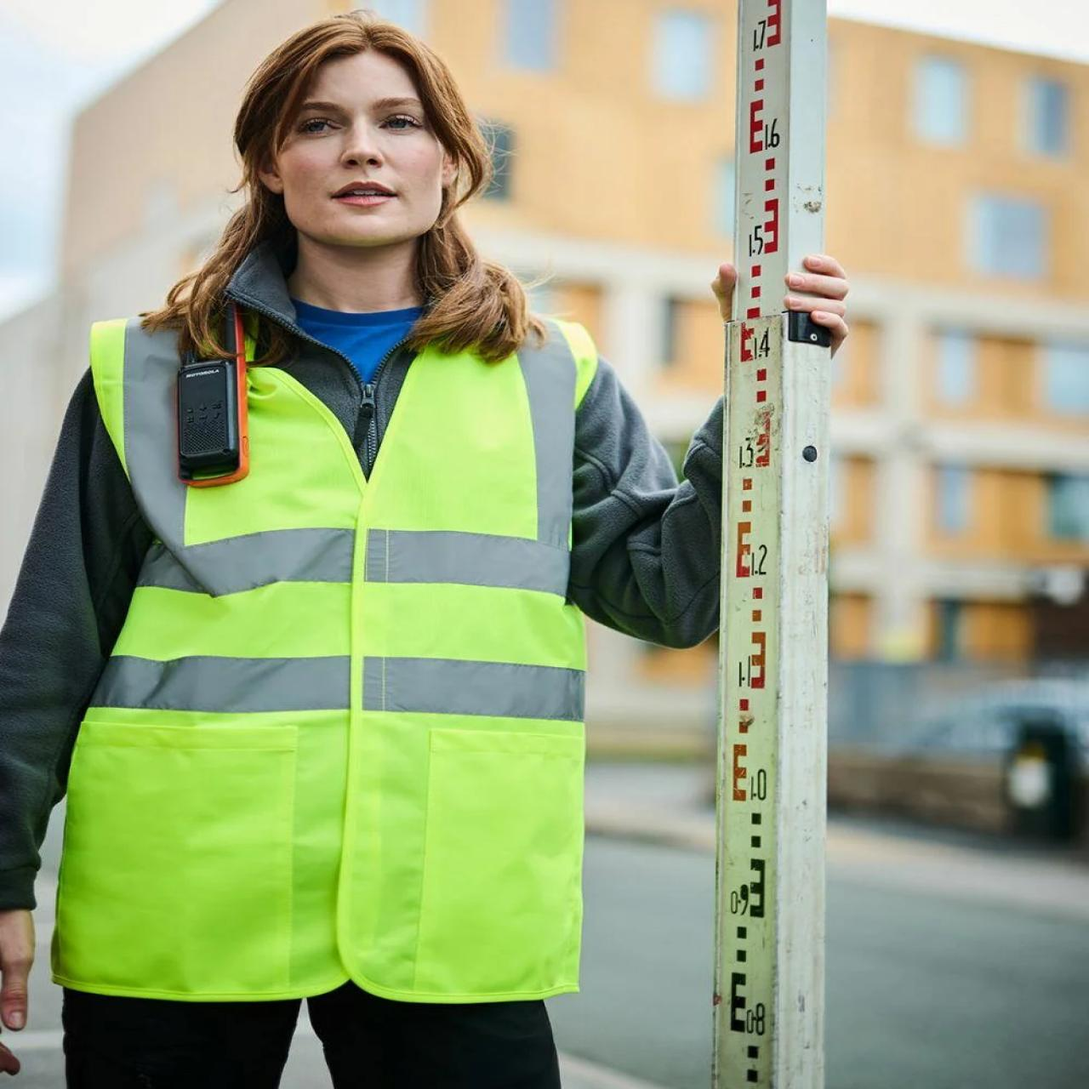Person: (0, 9, 840, 1089)
Safety_Vest: (44, 306, 599, 1000)
